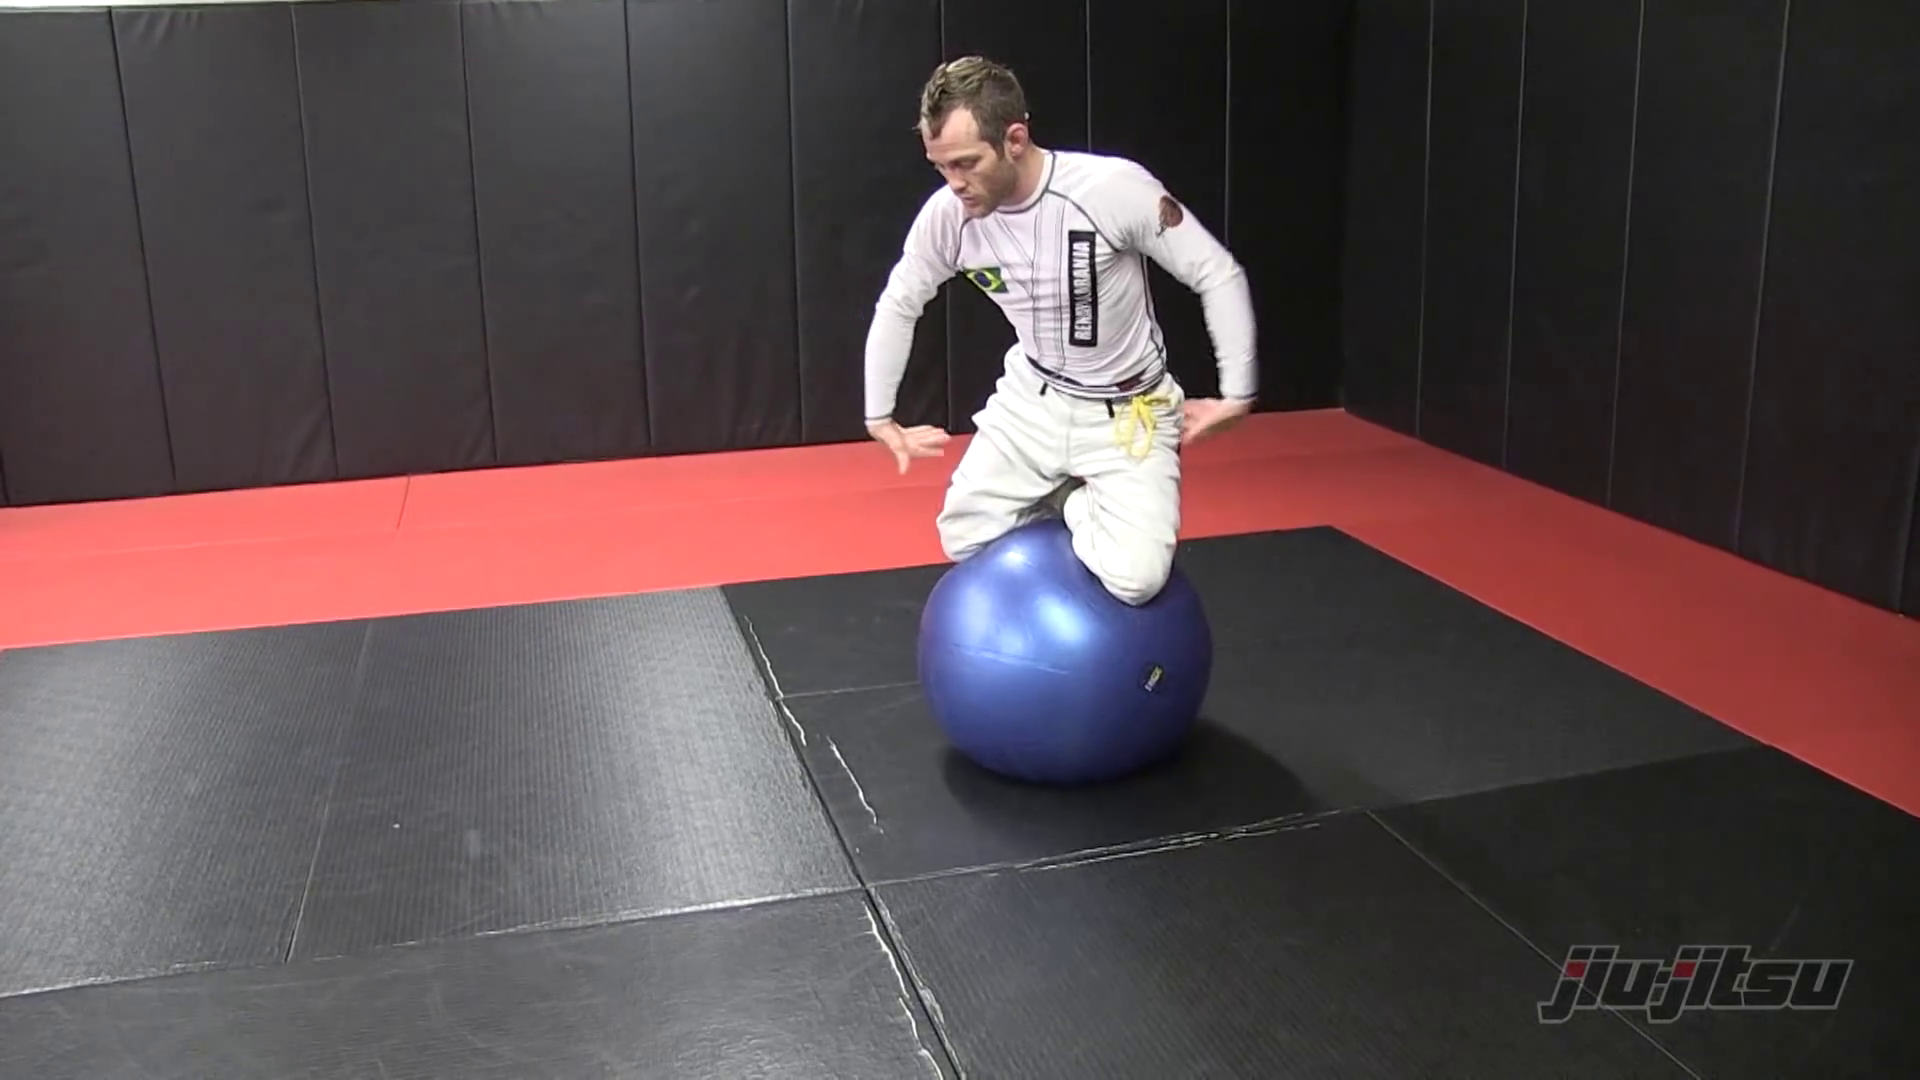yogaball: (897, 527, 1233, 796)
